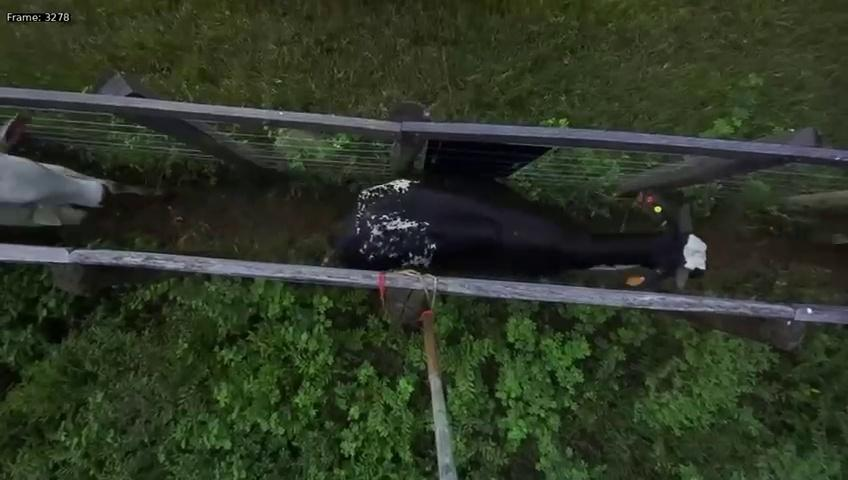cattle: (325, 163, 714, 300)
